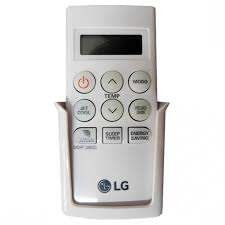remote control: (65, 7, 165, 218)
